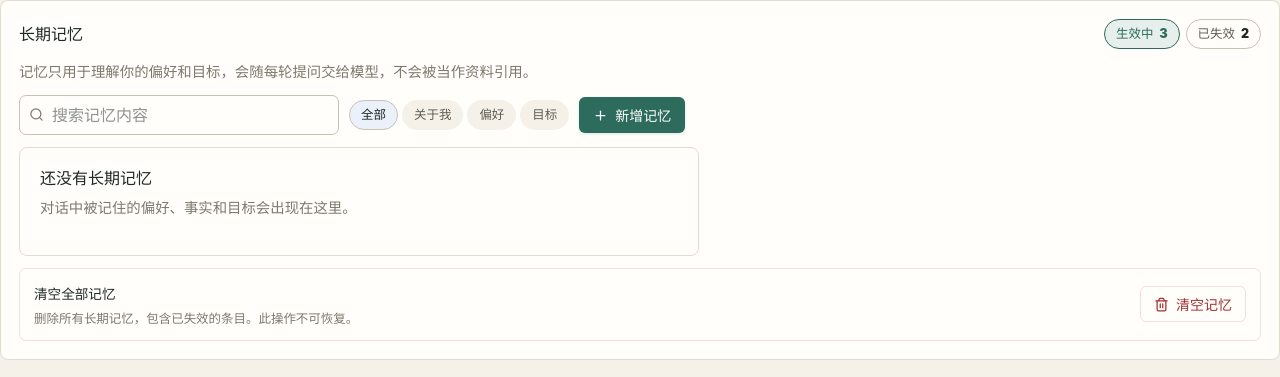
MemorySection › differentiates an empty active list from an empty superseded list
Expected: the heading "还没有长期记忆" is shown, [40, 168, 152, 188]
What coordinates should you click on to do the following:
click the button "已失效 2"
I would click on:
 (1223, 34)
Its box is [1186, 19, 1261, 49].
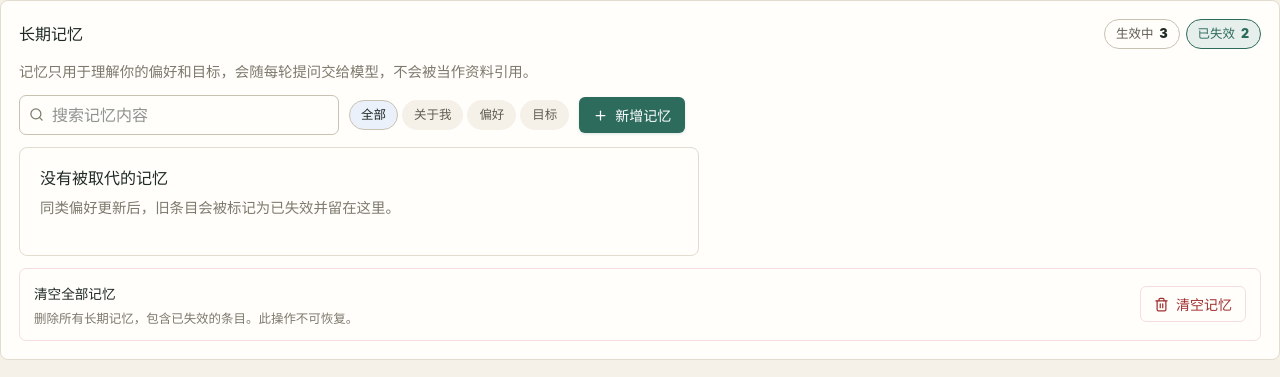
Now the heading "没有被取代的记忆" is shown, box [40, 168, 168, 188]
